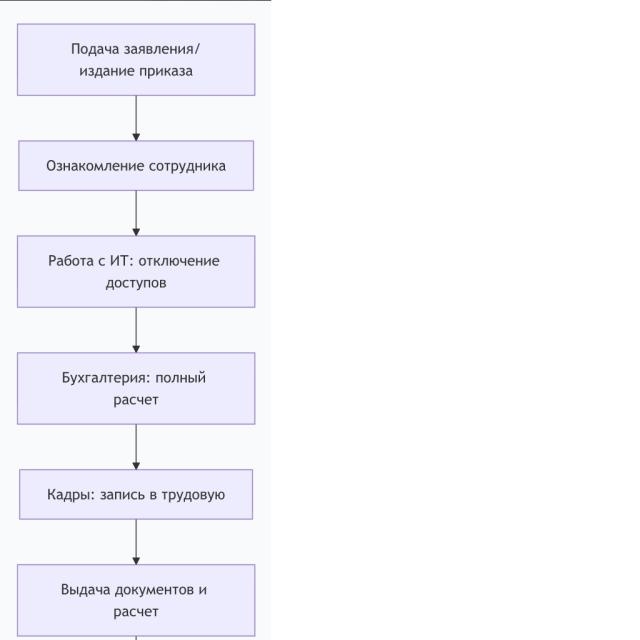arrow: (133, 191, 139, 235), (133, 425, 139, 469), (133, 520, 139, 564), (135, 96, 137, 131), (135, 308, 137, 342)
rectangle: (17, 564, 255, 636), (17, 235, 254, 307), (17, 352, 254, 424), (17, 24, 255, 95), (19, 140, 253, 190), (20, 469, 253, 519)
